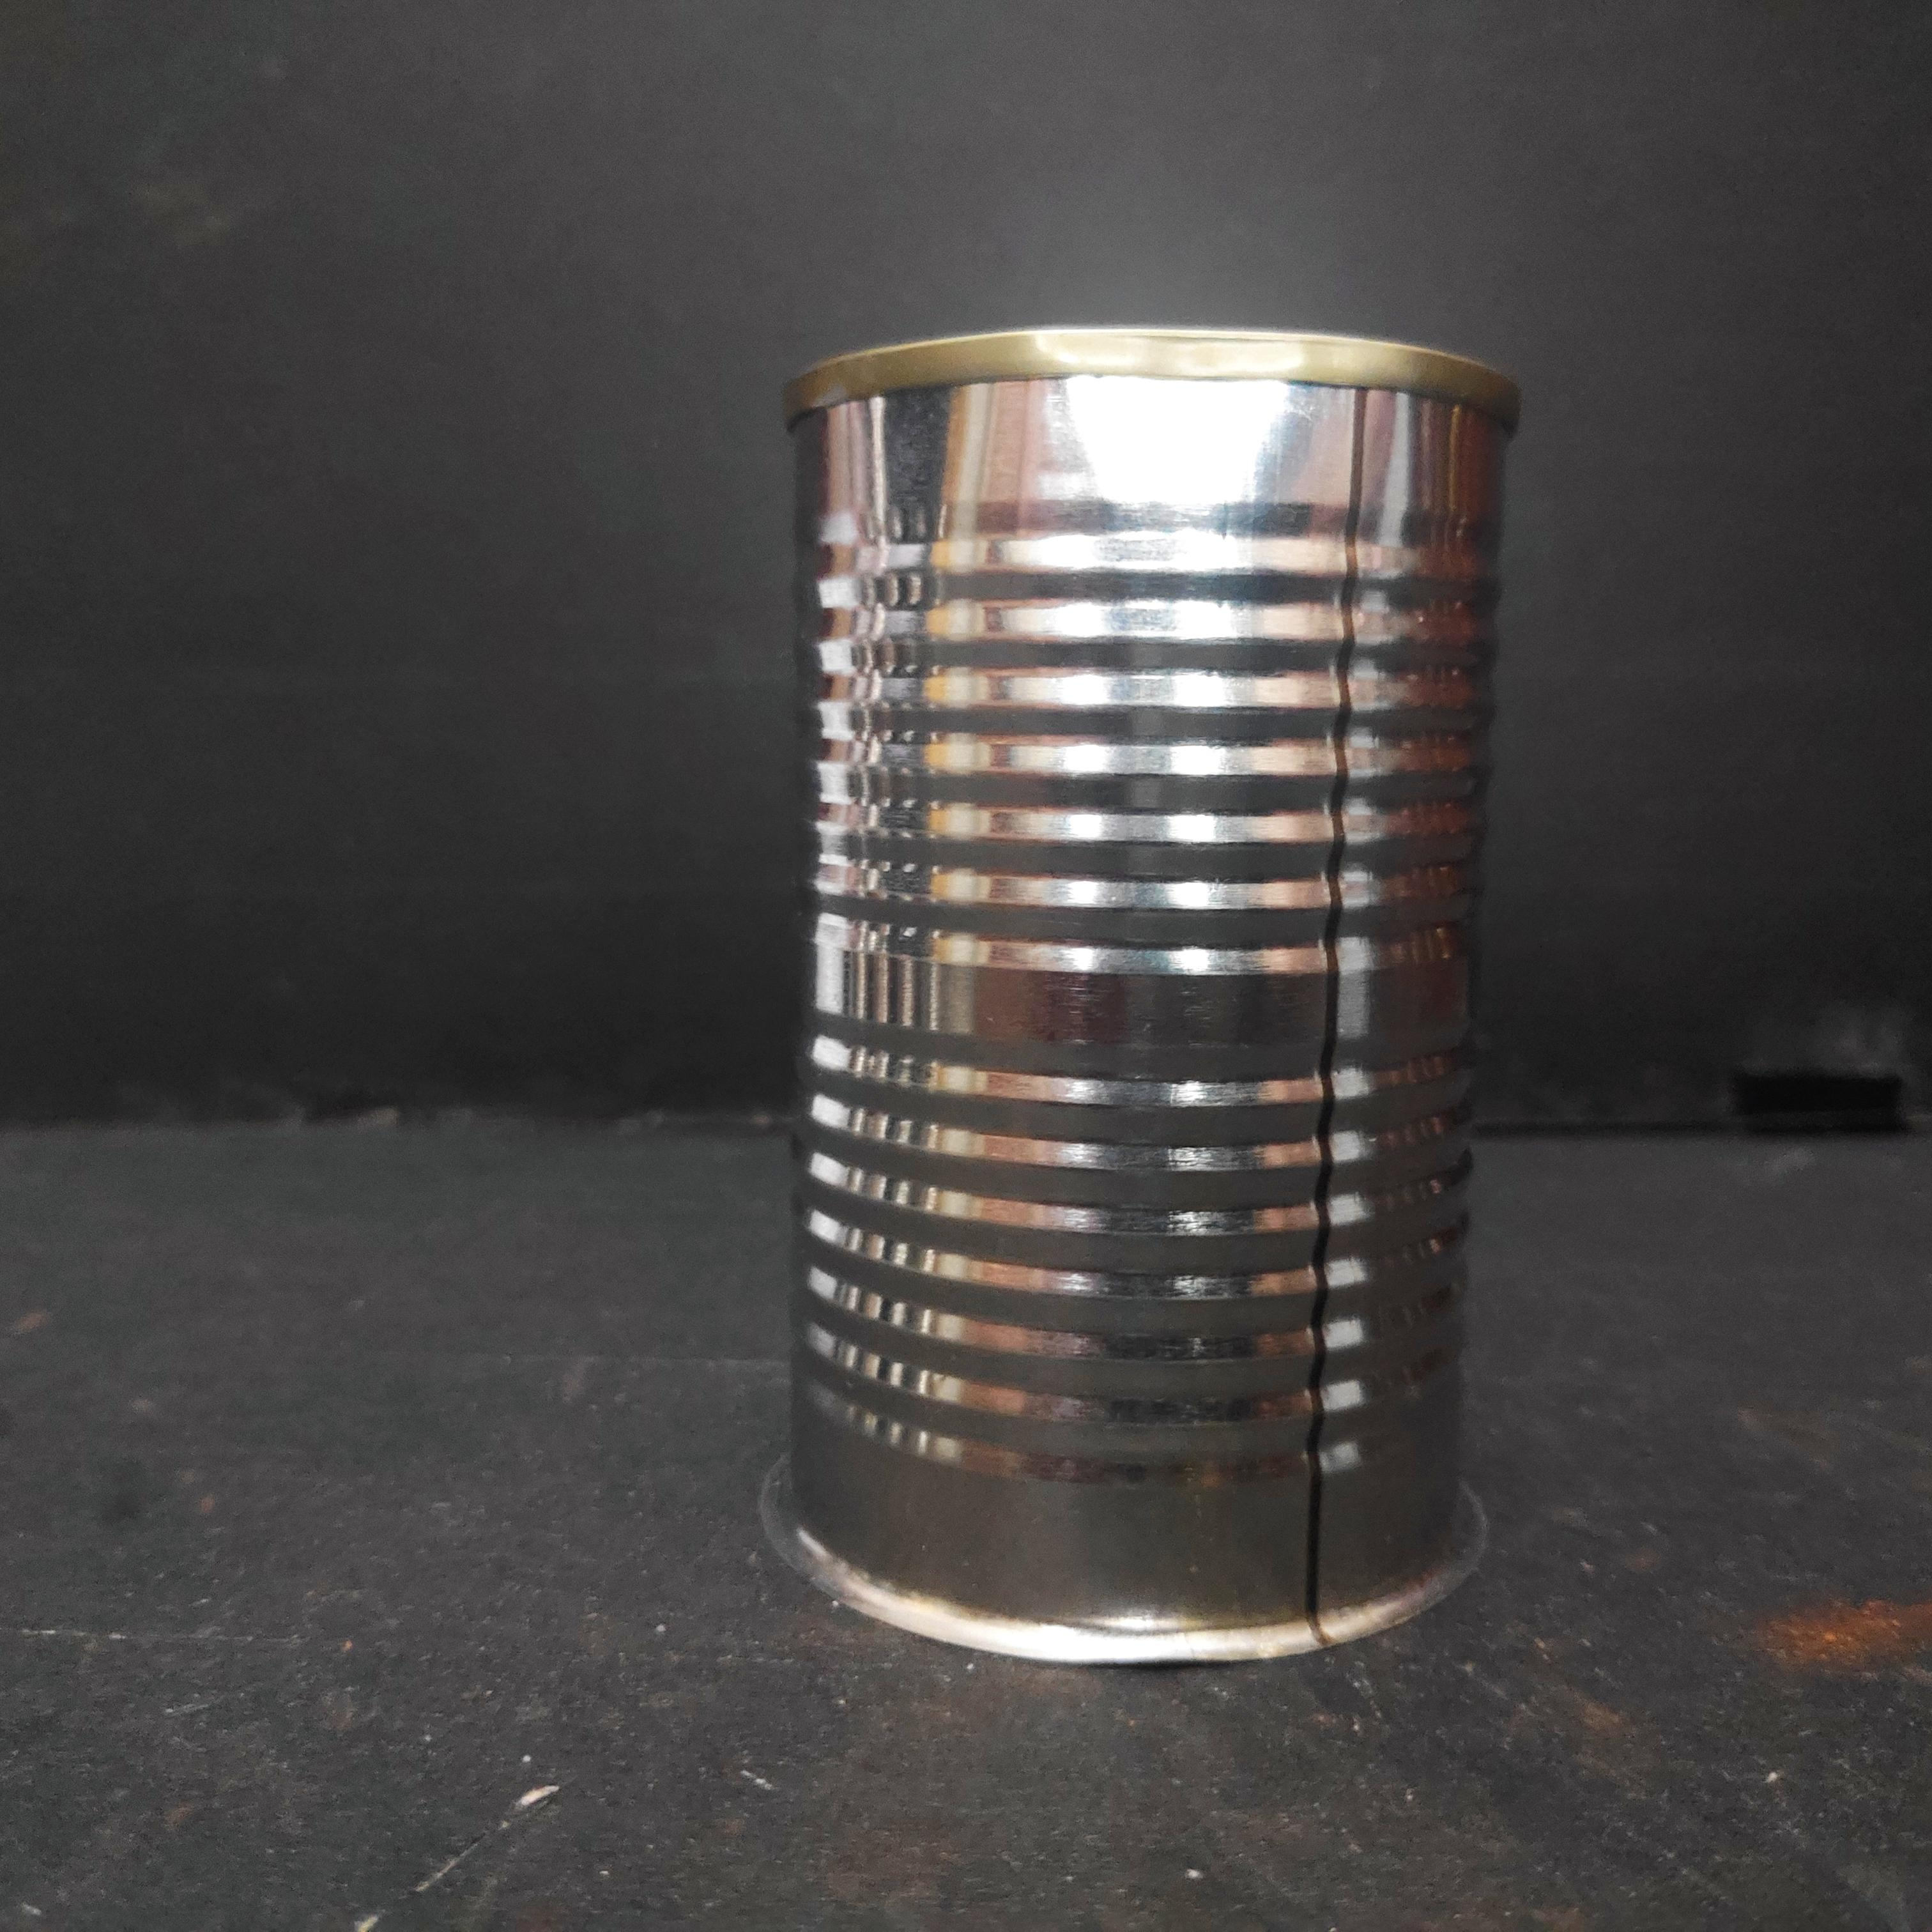Minor Defect: (771, 320, 1526, 1675)
